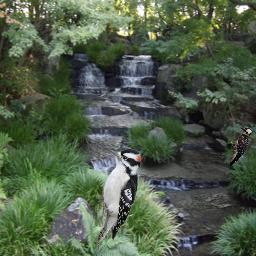Woodpecker: (96, 144, 146, 251), (228, 126, 255, 169)
